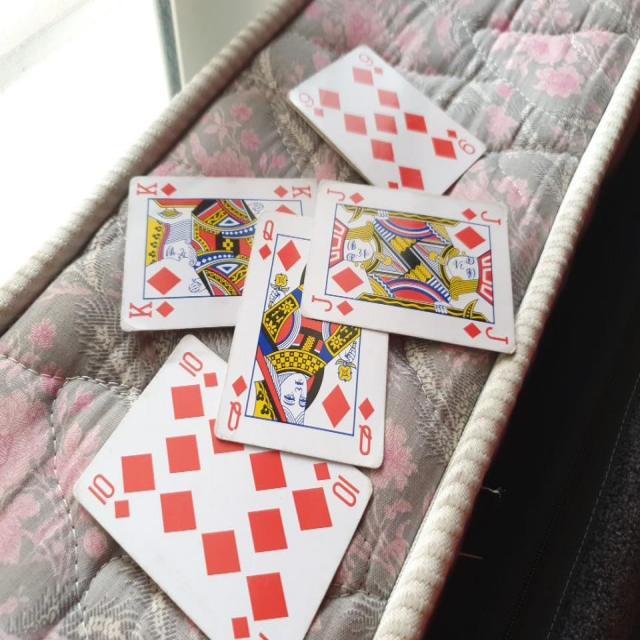10 Diamonds: (69, 331, 372, 640)
9 Diamonds: (284, 43, 485, 188)
J Diamonds: (300, 177, 521, 355)
K Diamonds: (120, 175, 318, 333)
Q Diamonds: (212, 208, 390, 469)
